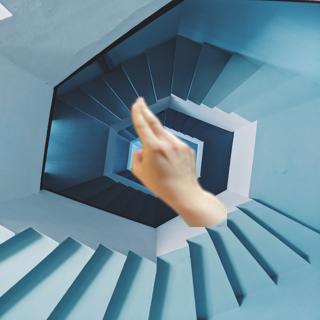DHAVE: (122, 92, 205, 202)
